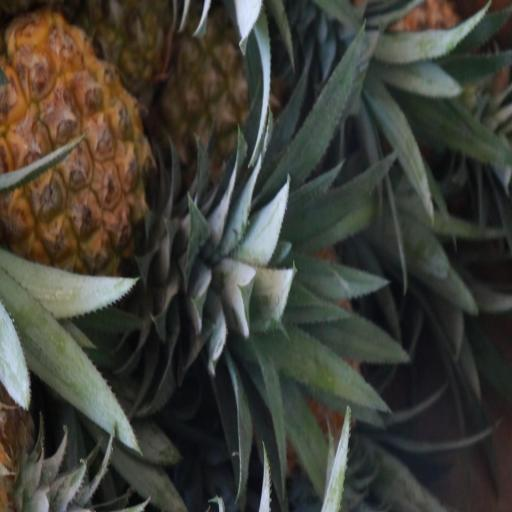Pineapple - v8 v1: (0, 15, 177, 269)
